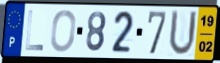2: (109, 10, 135, 55)
7: (146, 9, 167, 55)
8: (85, 10, 108, 54)
L: (24, 9, 45, 52)
O: (49, 9, 78, 54)
U: (167, 8, 199, 58)
